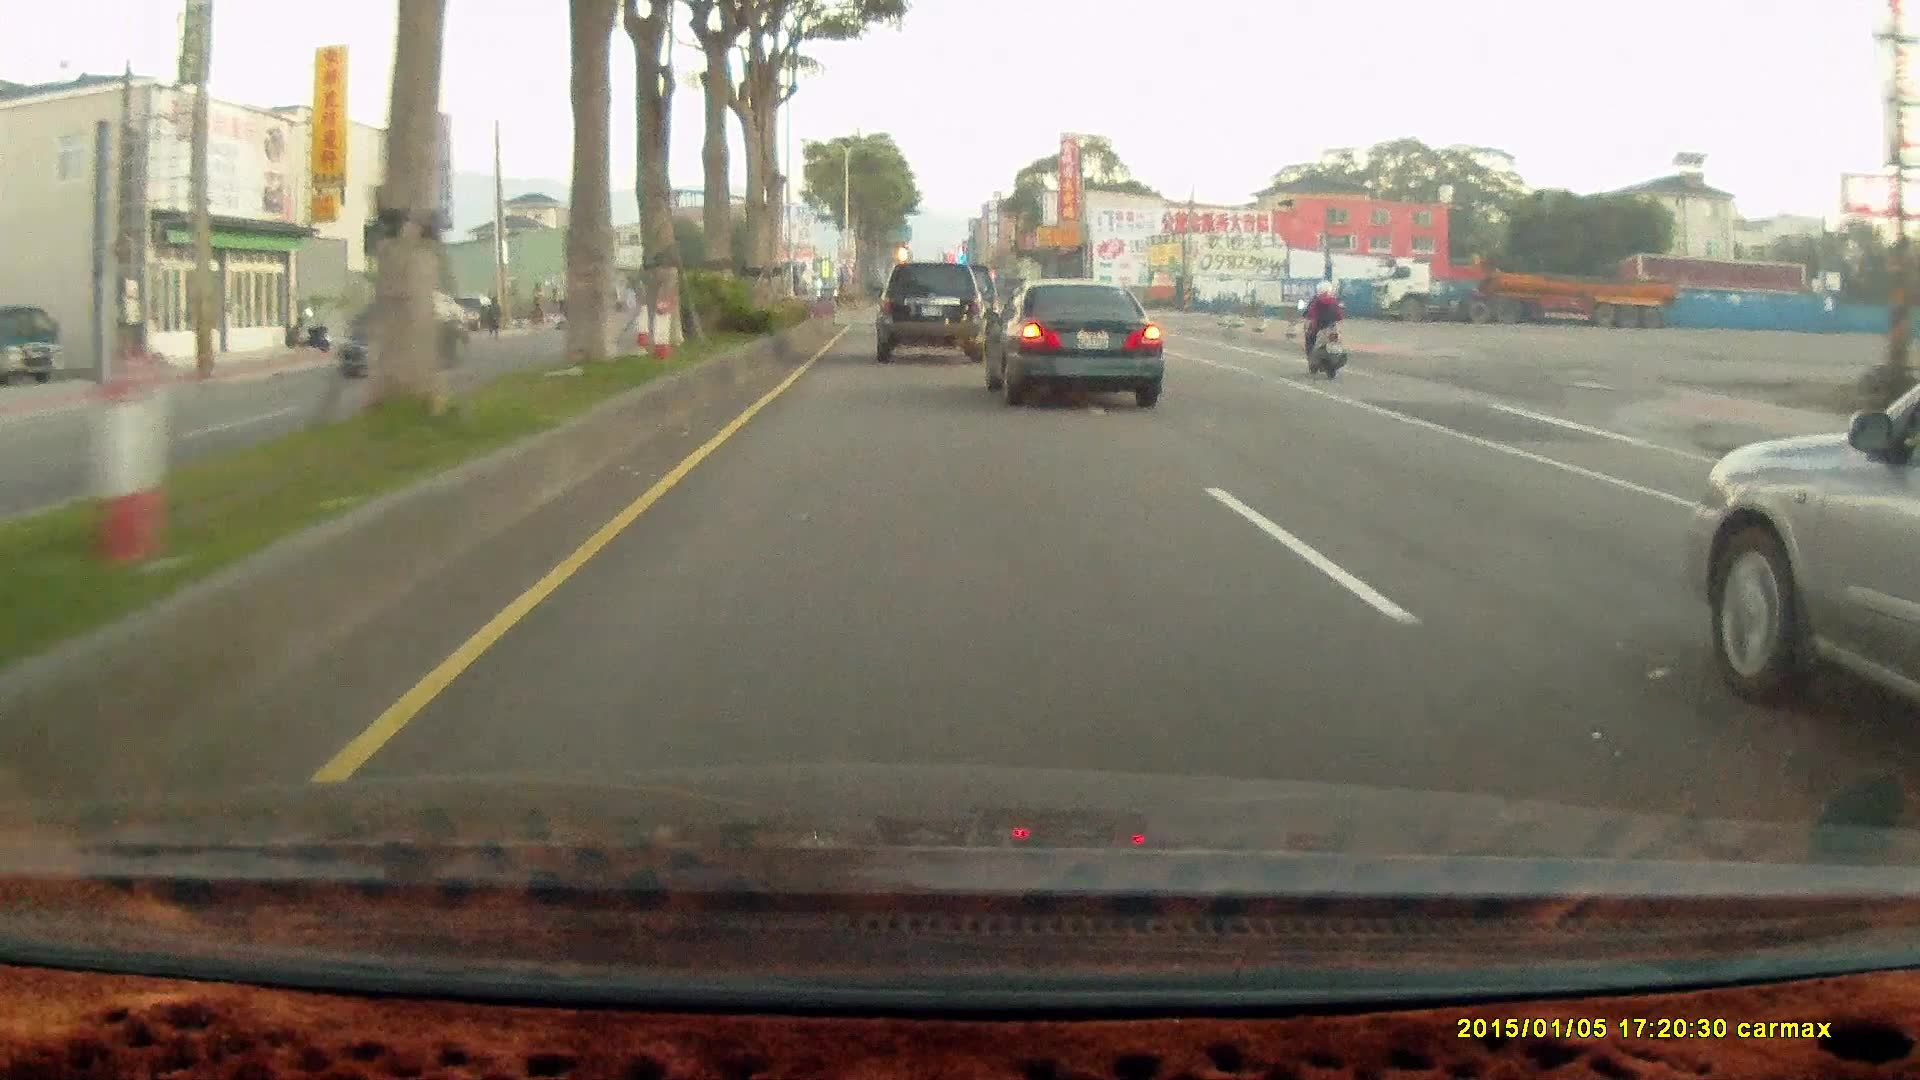rider: (1288, 271, 1358, 389), (1294, 282, 1346, 380)
vehicle: (1686, 378, 1920, 725), (979, 278, 1162, 407), (989, 280, 1168, 408), (1368, 258, 1675, 331), (875, 260, 992, 366), (337, 287, 469, 377), (874, 260, 986, 363), (1, 307, 71, 386), (1, 307, 65, 386), (434, 293, 496, 333)
